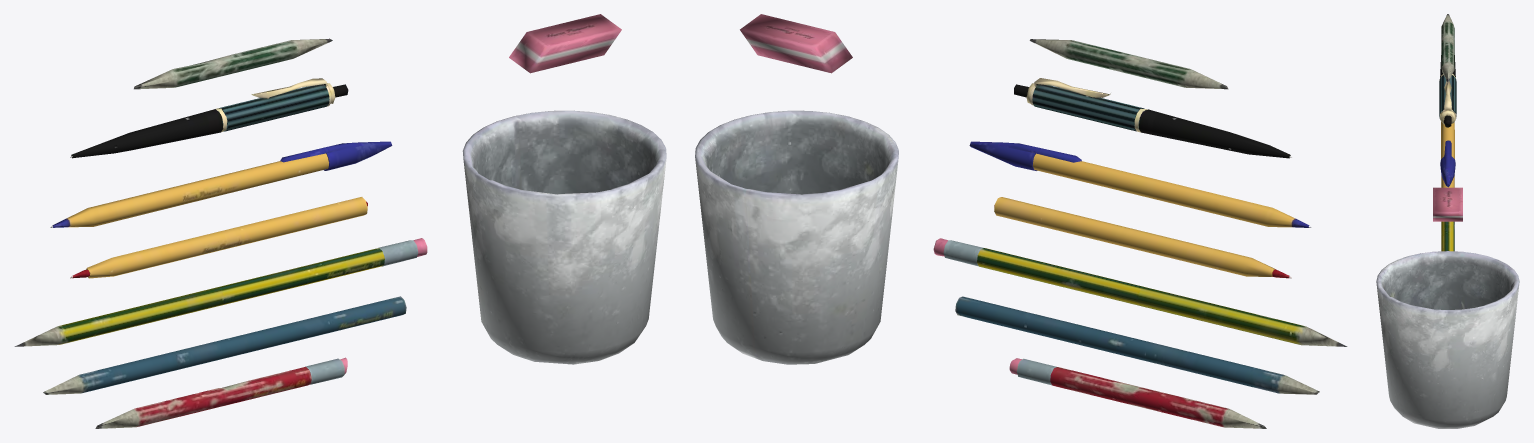
File: stationery_supplies.glb
3 renders of one model, left to right at view 1: azimuth 30°, elevation 25°; view 2: azimuth 150°, elevation 25°; view 3: azimuth 270°, elevation 25°, orthographic. The views are drawn at different scales.
Visible parts, largest first — view 1: stationery_supplies_pen_red; view 2: stationery_supplies_pen_red; view 3: stationery_supplies_pen_red.
Part boxes in pixels (<box>): stationery_supplies_pen_red: <box>14,14,666,428</box>; stationery_supplies_pen_red: <box>695,14,1347,428</box>; stationery_supplies_pen_red: <box>1376,14,1519,428</box>.
Bounding box in the file's own units: 0.3018 × 0.1643 × 0.0836.
1 material, 1 textured.
